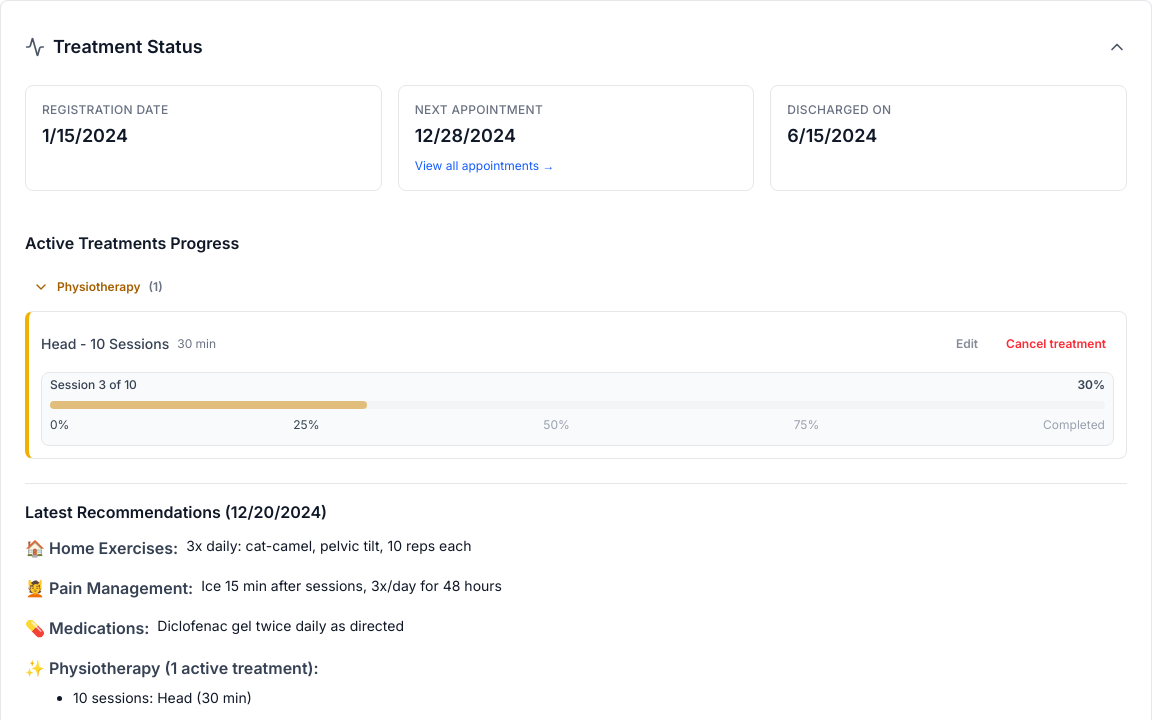
it: CurrentTreatmentCard › Delete Treatment Session Functionality › does not cancel when user cancels confirmation
This screenshot has width=1152, height=720.
# Physiotherapy section is expanded by default
Click the button titled "Cancel treatment".
click(1056, 344)  # box [998, 328, 1114, 360]
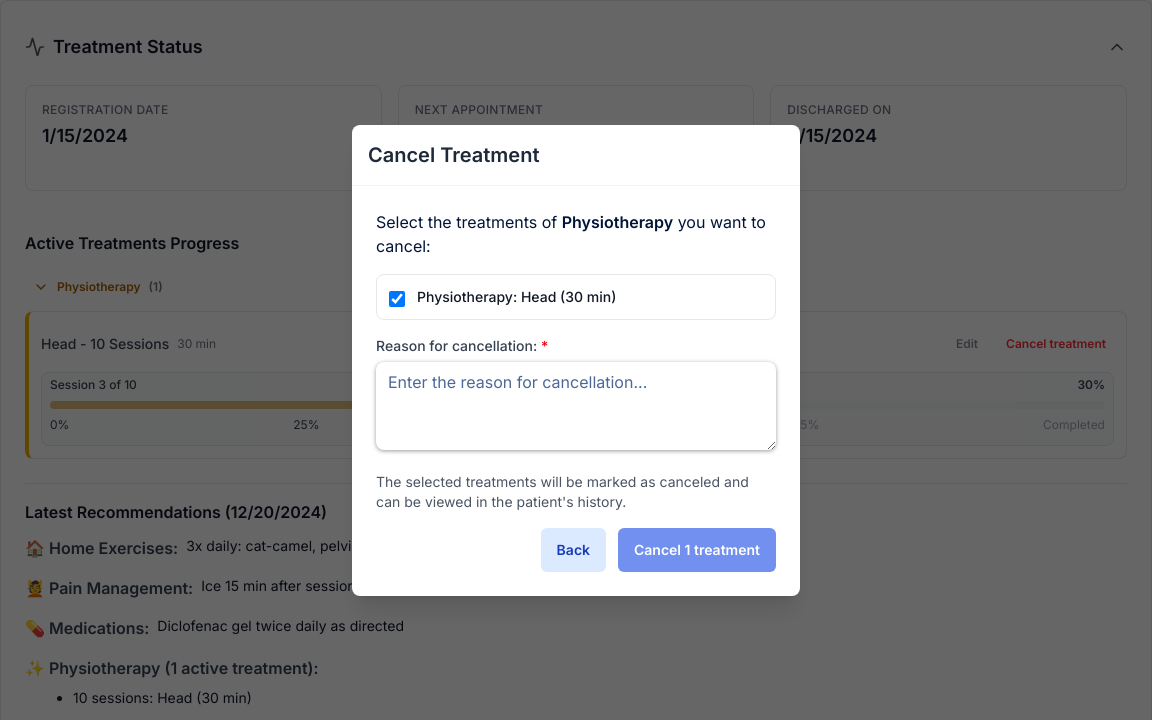
Now the heading "Cancel Treatment" is shown, box [368, 140, 540, 168]
Click the button "Back".
click(573, 550)  # box [541, 528, 606, 572]
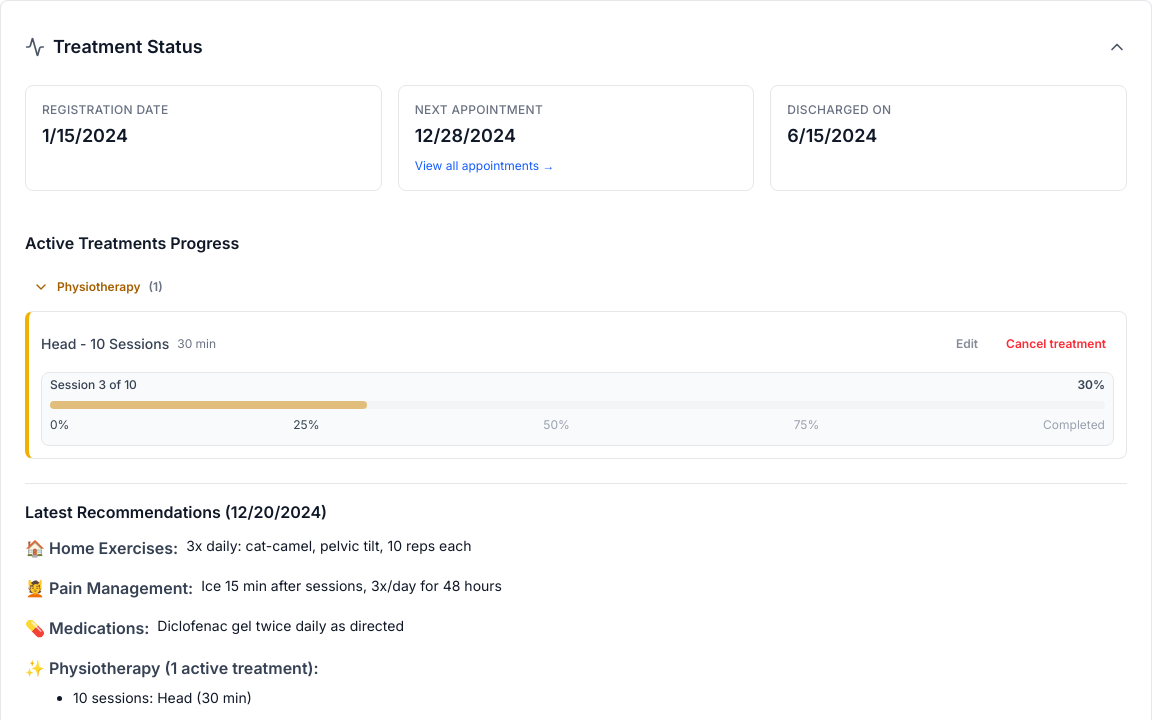
Now the text "selected treatments will be marked as canceled" is gone
